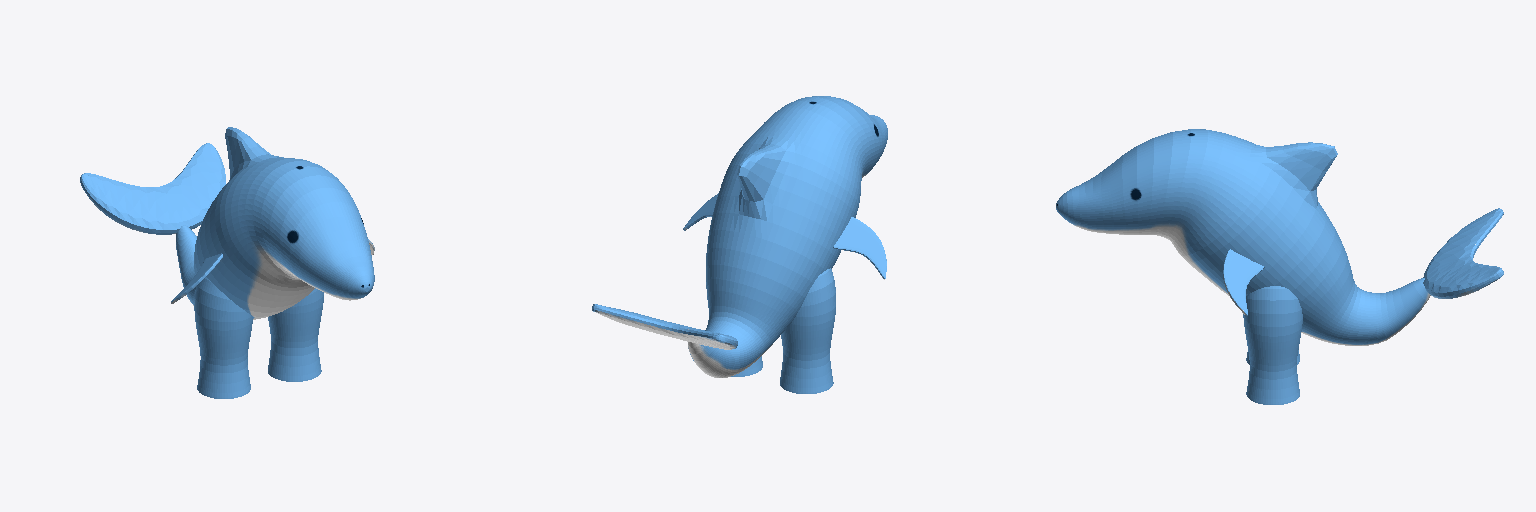
3 renders of one model, left to right at view 1: azimuth 30°, elevation 25°; view 2: azimuth 150°, elevation 25°; view 3: azimuth 270°, elevation 25°, orthographic.
Parts seen in each view (by area): view 1: Cube_Cube.002; view 2: Cube_Cube.002; view 3: Cube_Cube.002.
Part boxes in pixels (left/top/right/bottom): Cube_Cube.002: left=80, top=127, right=374, bottom=398; Cube_Cube.002: left=592, top=96, right=887, bottom=393; Cube_Cube.002: left=1056, top=129, right=1503, bottom=404.
Bounding box in the file's own units: 2.11 × 2.41 × 4.03.
1 materials, 1 textured.